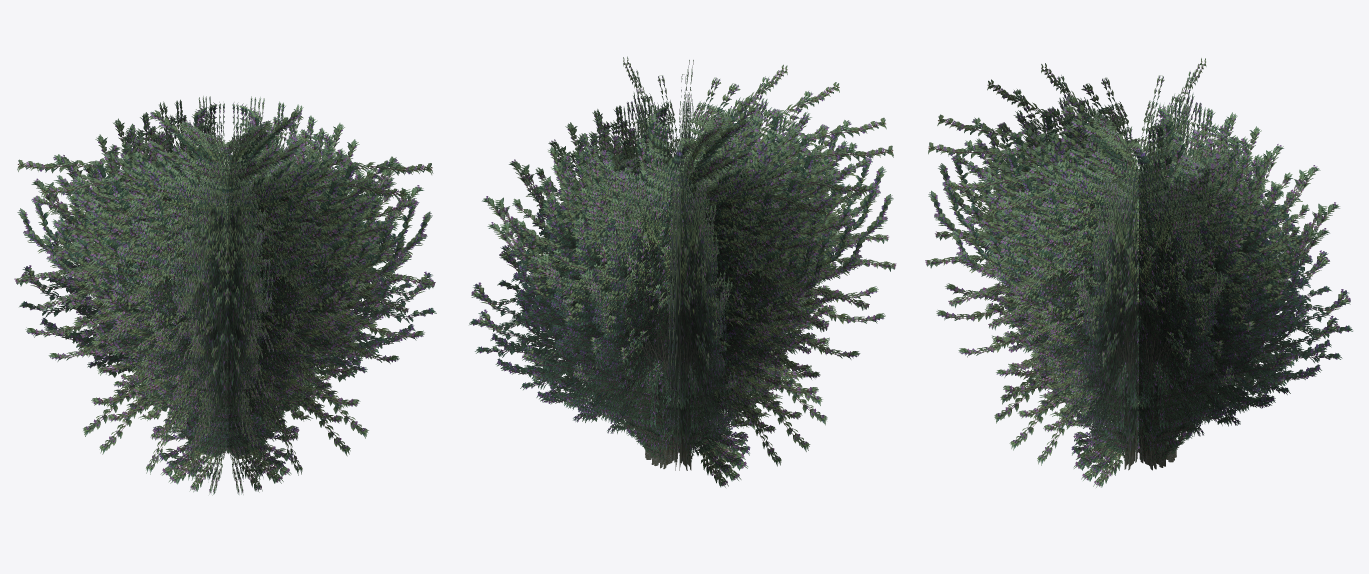
The model's file is bush3.fbx.
3 views of the same model, side by side, from view 1: azimuth 30°, elevation 25°; view 2: azimuth 150°, elevation 25°; view 3: azimuth 270°, elevation 25° (orthographic).
Visible parts, largest first — view 1: bush3.002; view 2: bush3.002; view 3: bush3.002.
Part boxes in pixels (<box>): bush3.002: <box>14,96,436,495</box>; bush3.002: <box>469,56,896,487</box>; bush3.002: <box>925,58,1352,487</box>.
Bounding box in the file's own units: 10.17 × 9.51 × 10.17.
Materials: 1 (1 with a texture image).
